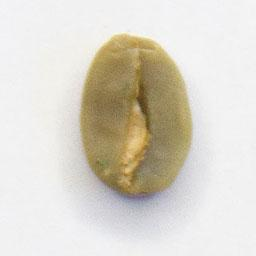premium: (77, 30, 197, 201)
